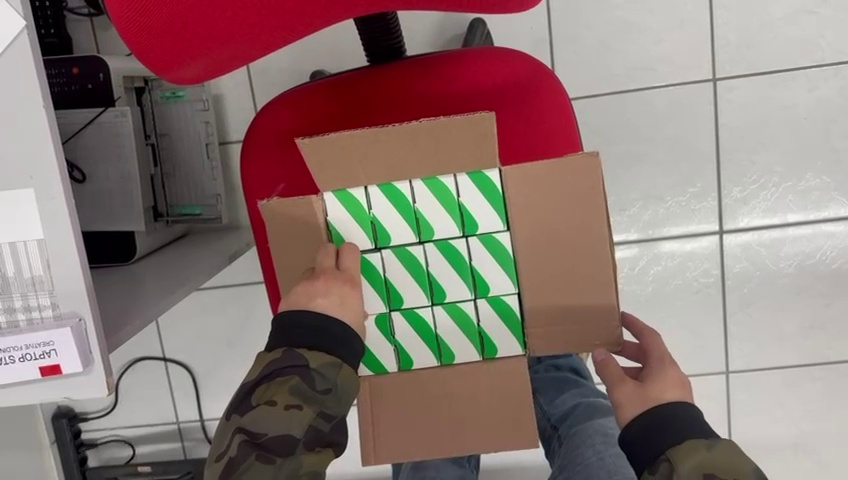divisor: (455, 167, 510, 237), (466, 230, 520, 301), (366, 179, 420, 249), (474, 292, 528, 361), (412, 173, 465, 243), (423, 235, 476, 305), (322, 185, 375, 253), (432, 298, 485, 366), (390, 305, 442, 371), (382, 244, 432, 311), (352, 311, 400, 377), (359, 250, 390, 314)
